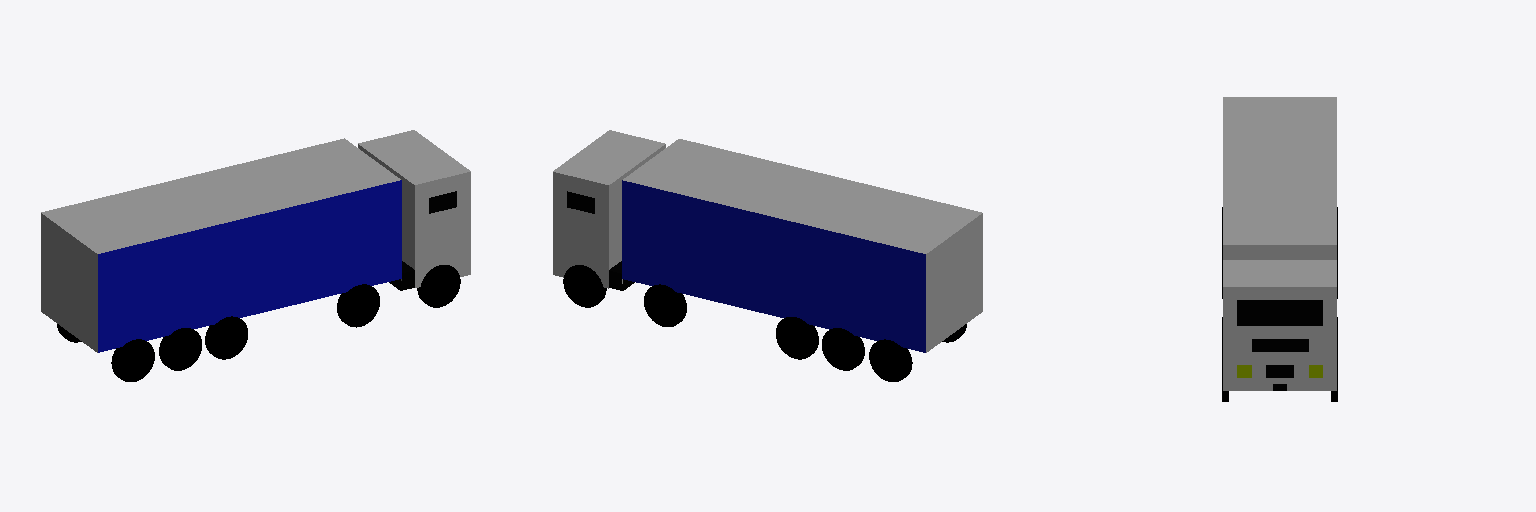
The model's file is Lorry.obj.
3 renders of one model, left to right at view 1: azimuth 30°, elevation 25°; view 2: azimuth 150°, elevation 25°; view 3: azimuth 270°, elevation 25°, orthographic.
Parts seen in each view (by area): view 1: Lorry_Cube, kerek.009_Cylinder.009, kerek.006_Cylinder.006, kerek.005_Cylinder.005, kerek.002_Cylinder.002, kerek.001_Cylinder.001; view 2: Lorry_Cube, kerek.007_Cylinder.007, kerek.004_Cylinder.004, kerek.008_Cylinder.008, kerek.003_Cylinder.003, kerek_Cylinder; view 3: Lorry_Cube.
Part boxes in pixels (x1,y1,x2,y2): Lorry_Cube: (41,130,470,352); kerek.009_Cylinder.009: (111,339,154,381); kerek.006_Cylinder.006: (159,328,201,370); kerek.005_Cylinder.005: (205,316,247,359); kerek.002_Cylinder.002: (337,284,379,327); kerek.001_Cylinder.001: (417,265,460,307); Lorry_Cube: (553,130,982,352); kerek.007_Cylinder.007: (822,328,864,370); kerek.004_Cylinder.004: (776,317,818,359); kerek.008_Cylinder.008: (869,339,912,381); kerek.003_Cylinder.003: (644,284,686,326); kerek_Cylinder: (563,265,606,307); Lorry_Cube: (1223,97,1336,390).
Size of the model in its own units: 7.57 by 2.64 by 2.04.